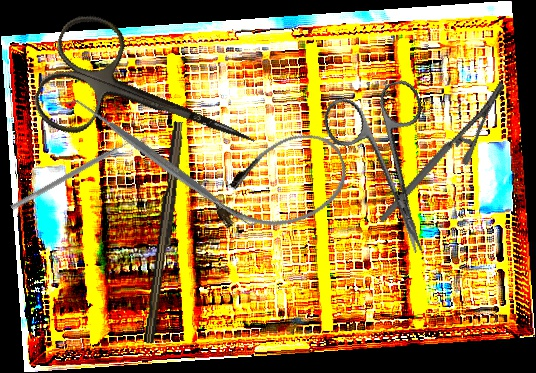Cannula: (200, 121, 359, 249)
Iris Scissors: (26, 4, 277, 200), (318, 76, 463, 268)
Needle Holder: (349, 81, 534, 223)
Scalpel Handle: (143, 120, 188, 345)
Spatula Surgical: (63, 85, 261, 240), (10, 136, 137, 216)
